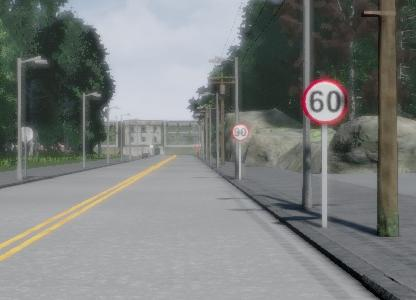Speed_60: (299, 76, 348, 127)
